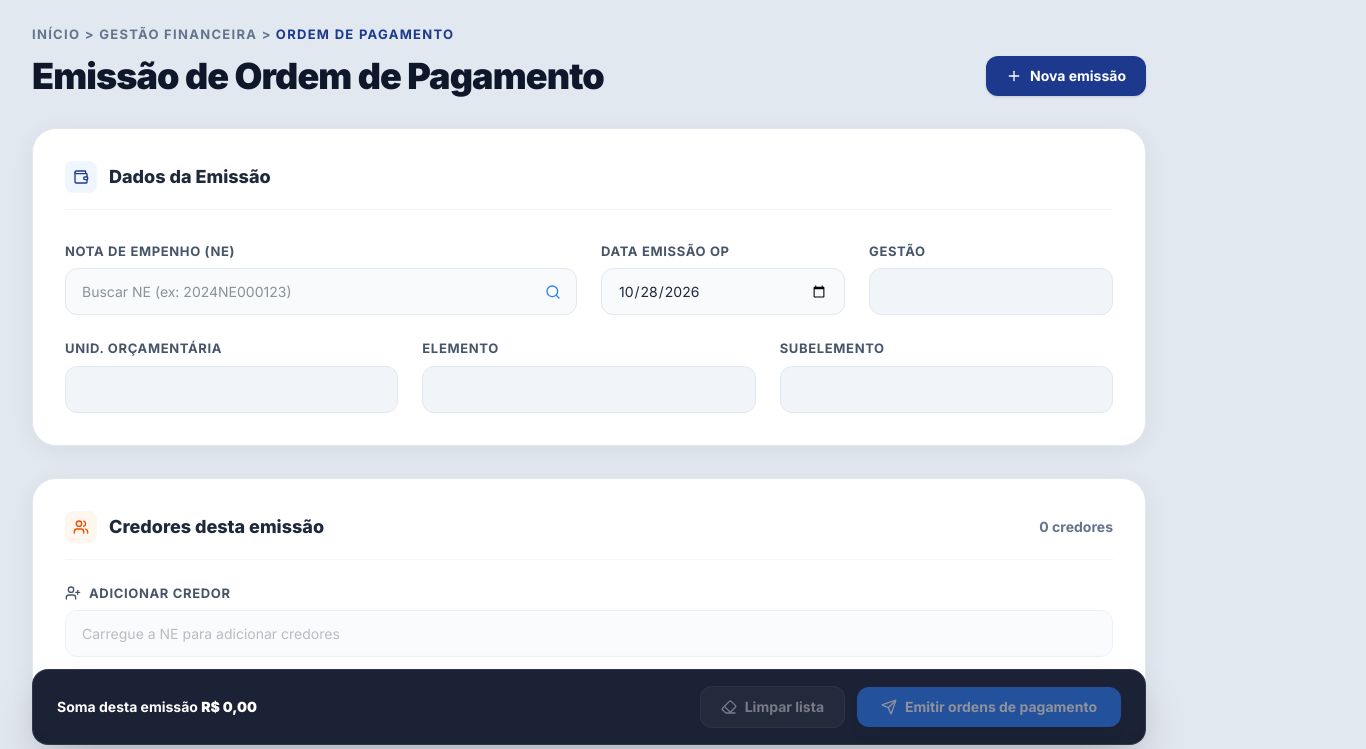
Test: Emissão de OP com lista de credores (T35-B) › sem "Número da OP" nem bloco Favorecido; NE no lugar; dados da NE somente leitura
Check: the heading "Favorecido" is not shown
Check: the dropdown labelled "Adicionar credor" is disabled, box [65,610,1113,657]
Step 1. Type "2026NE000001" into the dropdown labelled "Nota de Empenho (NE)" → [321, 292], box [65,268,577,315]
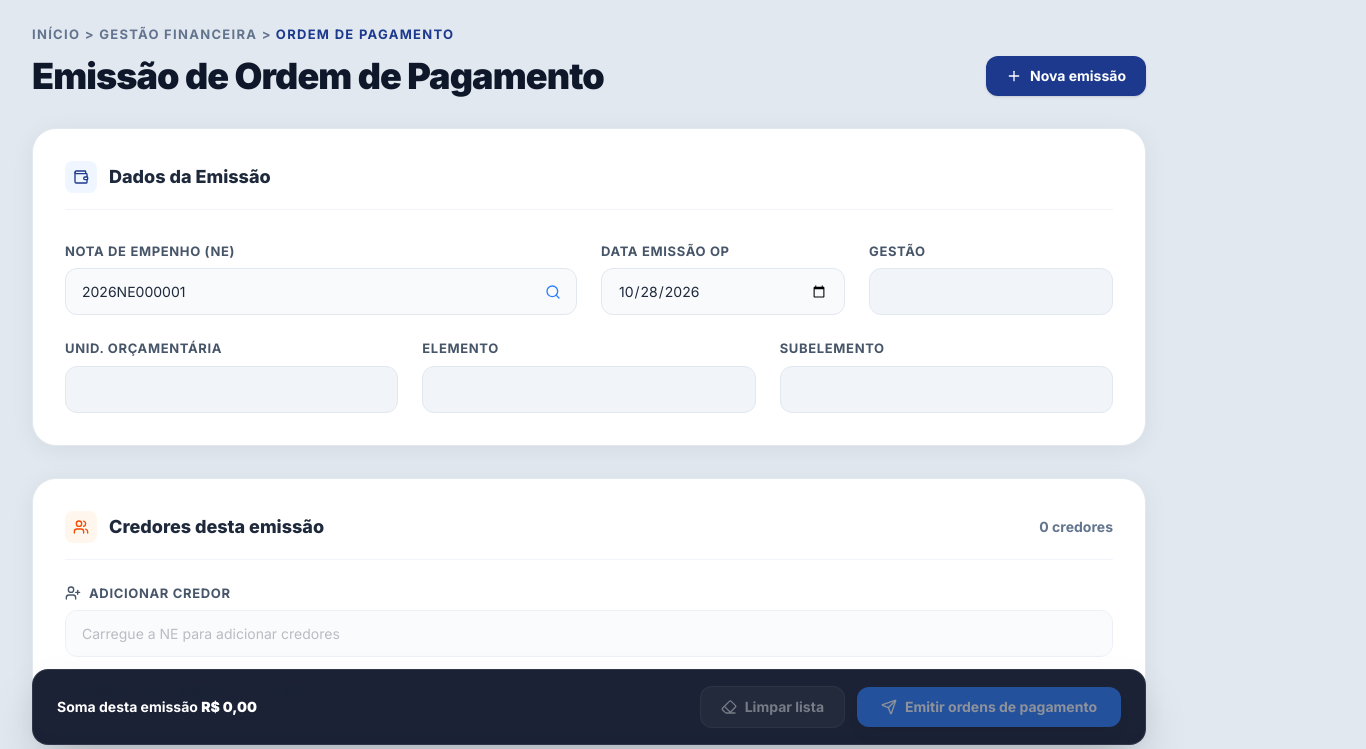
Step 2. Click the button named "Carregar a NE" → [553, 292], box [537,276,569,308]
(page scrolled)
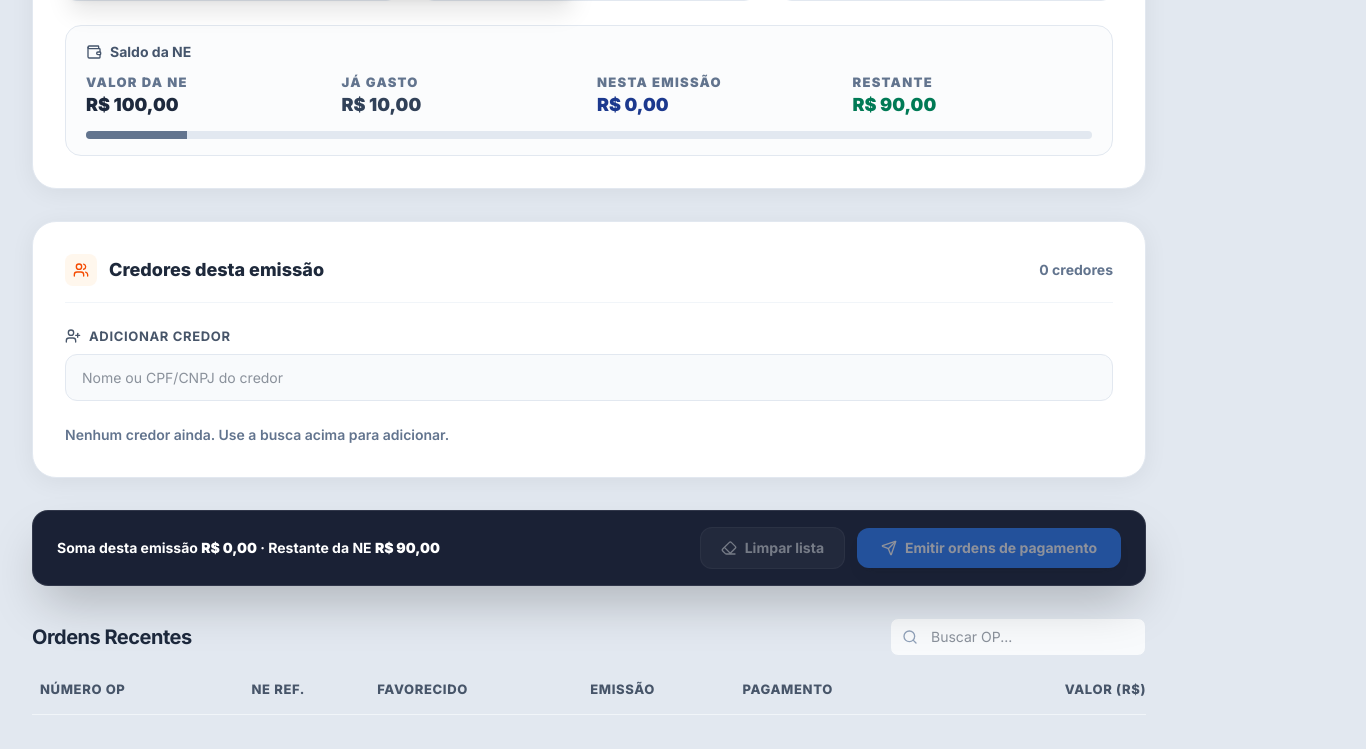
Check: the element with test id "faixa-saldo-emissao" is shown, box [65,25,1113,156]
Check: the dropdown labelled "Adicionar credor" is enabled, box [65,354,1113,401]
